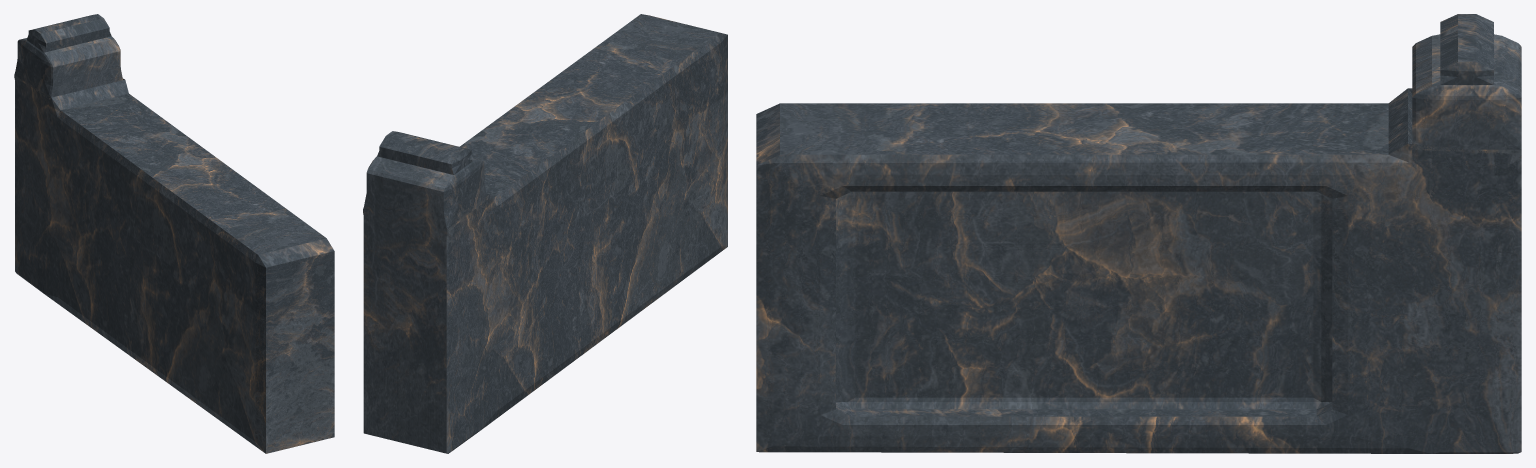
Rendered from dis_duvar_dogrusu.glb.
3 renders of one model, left to right at view 1: azimuth 30°, elevation 25°; view 2: azimuth 150°, elevation 25°; view 3: azimuth 270°, elevation 25°, orthographic. The views are drawn at different scales.
Parts seen in each view (by area): view 1: Cube; view 2: Cube; view 3: Cube.
Boxes of the visible parts, left/top/right/bottom form: Cube: left=14, top=14, right=334, bottom=453; Cube: left=363, top=14, right=727, bottom=453; Cube: left=756, top=14, right=1521, bottom=453.
Size of the model in its own units: 1.2 by 3.92 by 7.
1 material, 1 textured.
